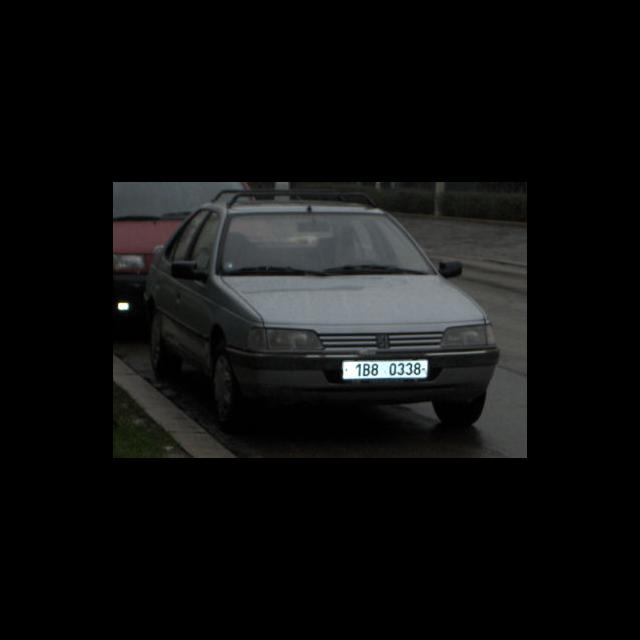Plate: (339, 357, 429, 380)
